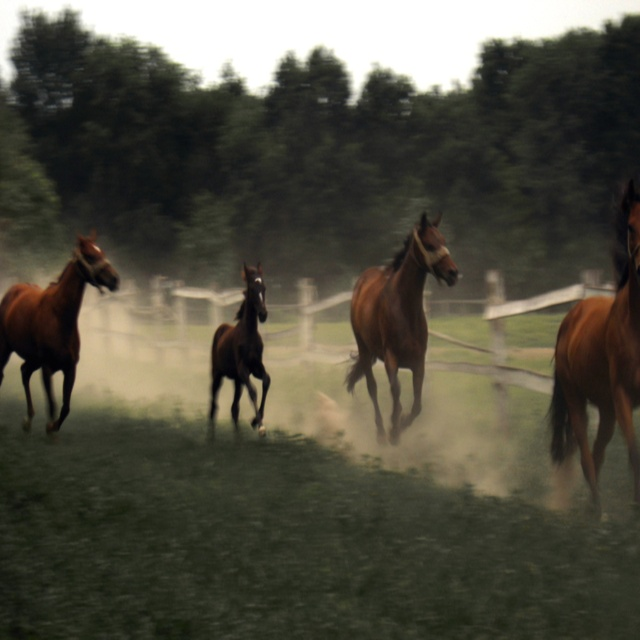Horse: (546, 177, 639, 521), (340, 206, 462, 446), (0, 234, 120, 437), (210, 258, 270, 438)
